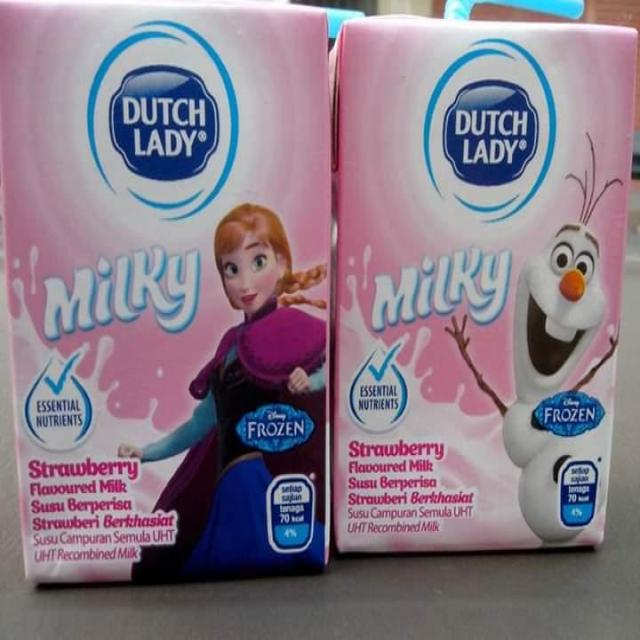drink carton: (0, 2, 325, 576), (334, 20, 631, 555)
